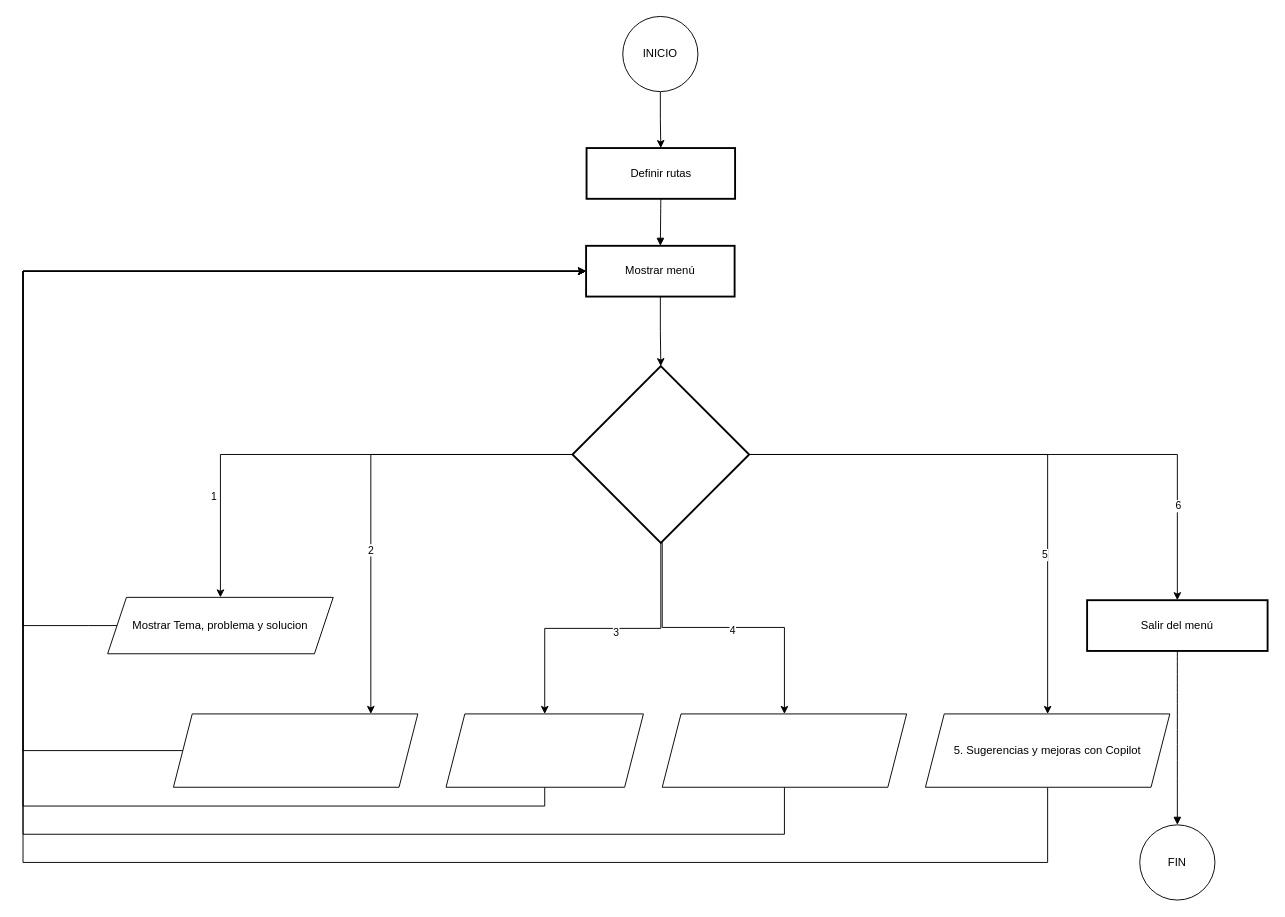
Some shapes in this 1285 by 917 pixel diagram are drawn without their labels. Here are the shapes that lost their labels. From the top down, the centre of each, then its label:
point (660, 454): Seleccionar opción
point (295, 750): Mostrar pseudocodigo
point (544, 750): 3. Mostrar diagrama de flujo
point (784, 750): 4. Mostrar info acerca de los datasets
